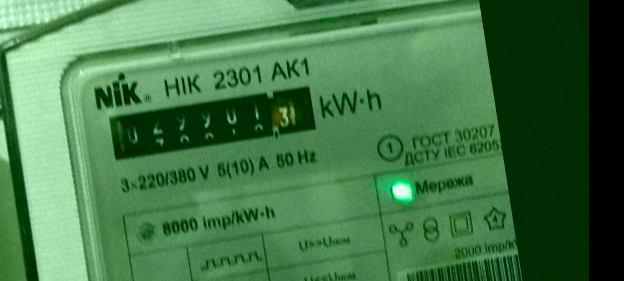0: (220, 99, 239, 126), (121, 121, 139, 145)
1: (247, 96, 262, 121)
2: (146, 112, 164, 136)
3: (273, 103, 292, 128)
9: (197, 105, 212, 130), (172, 108, 187, 131)
screen: (98, 76, 326, 171)
